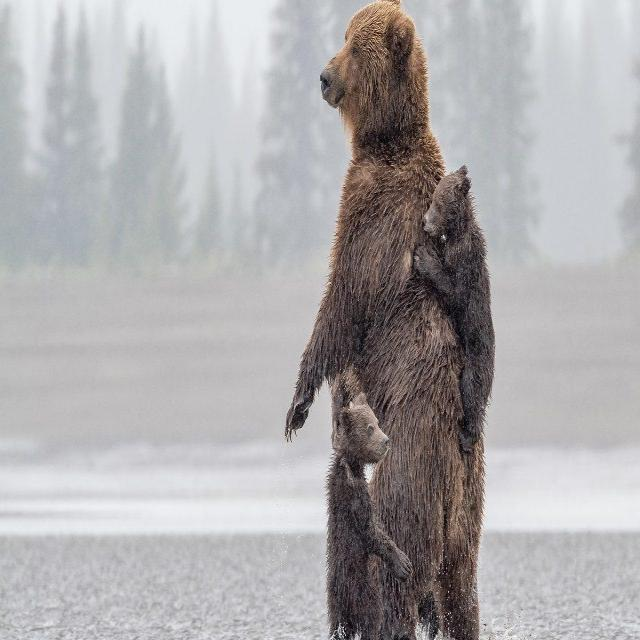Bear: (286, 0, 484, 640), (415, 170, 496, 442), (327, 410, 411, 632)
